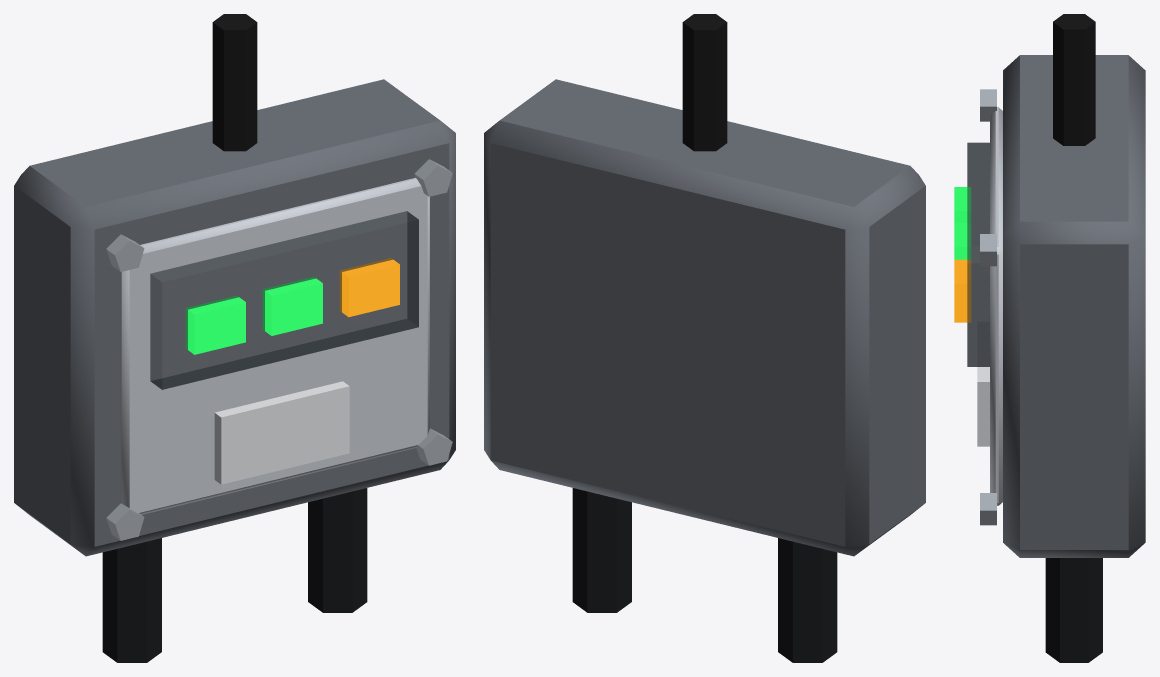
File: junction_surge_protector_box.glb
3 views of the same model, side by side, from view 1: azimuth 30°, elevation 25°; view 2: azimuth 150°, elevation 25°; view 3: azimuth 270°, elevation 25° (orthographic). The views are drawn at different scales.
Visible parts, largest first — view 1: junction_surge_protector_box; view 2: junction_surge_protector_box; view 3: junction_surge_protector_box.
Part boxes in pixels (x1,y1,x2,y2): junction_surge_protector_box: (14,14,455,662); junction_surge_protector_box: (484,14,925,662); junction_surge_protector_box: (954,14,1145,662).
Size of the model in its own units: 0.3 by 0.45 by 0.134.
